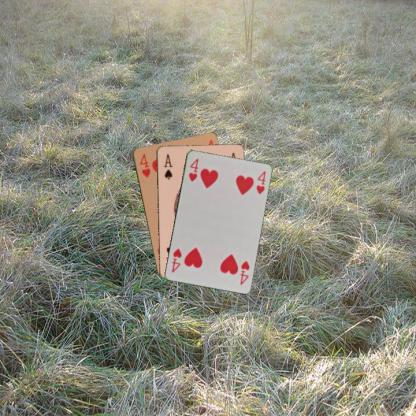4h: (237, 258, 251, 286), (137, 151, 151, 178), (186, 156, 199, 182)
As: (162, 152, 174, 180)
